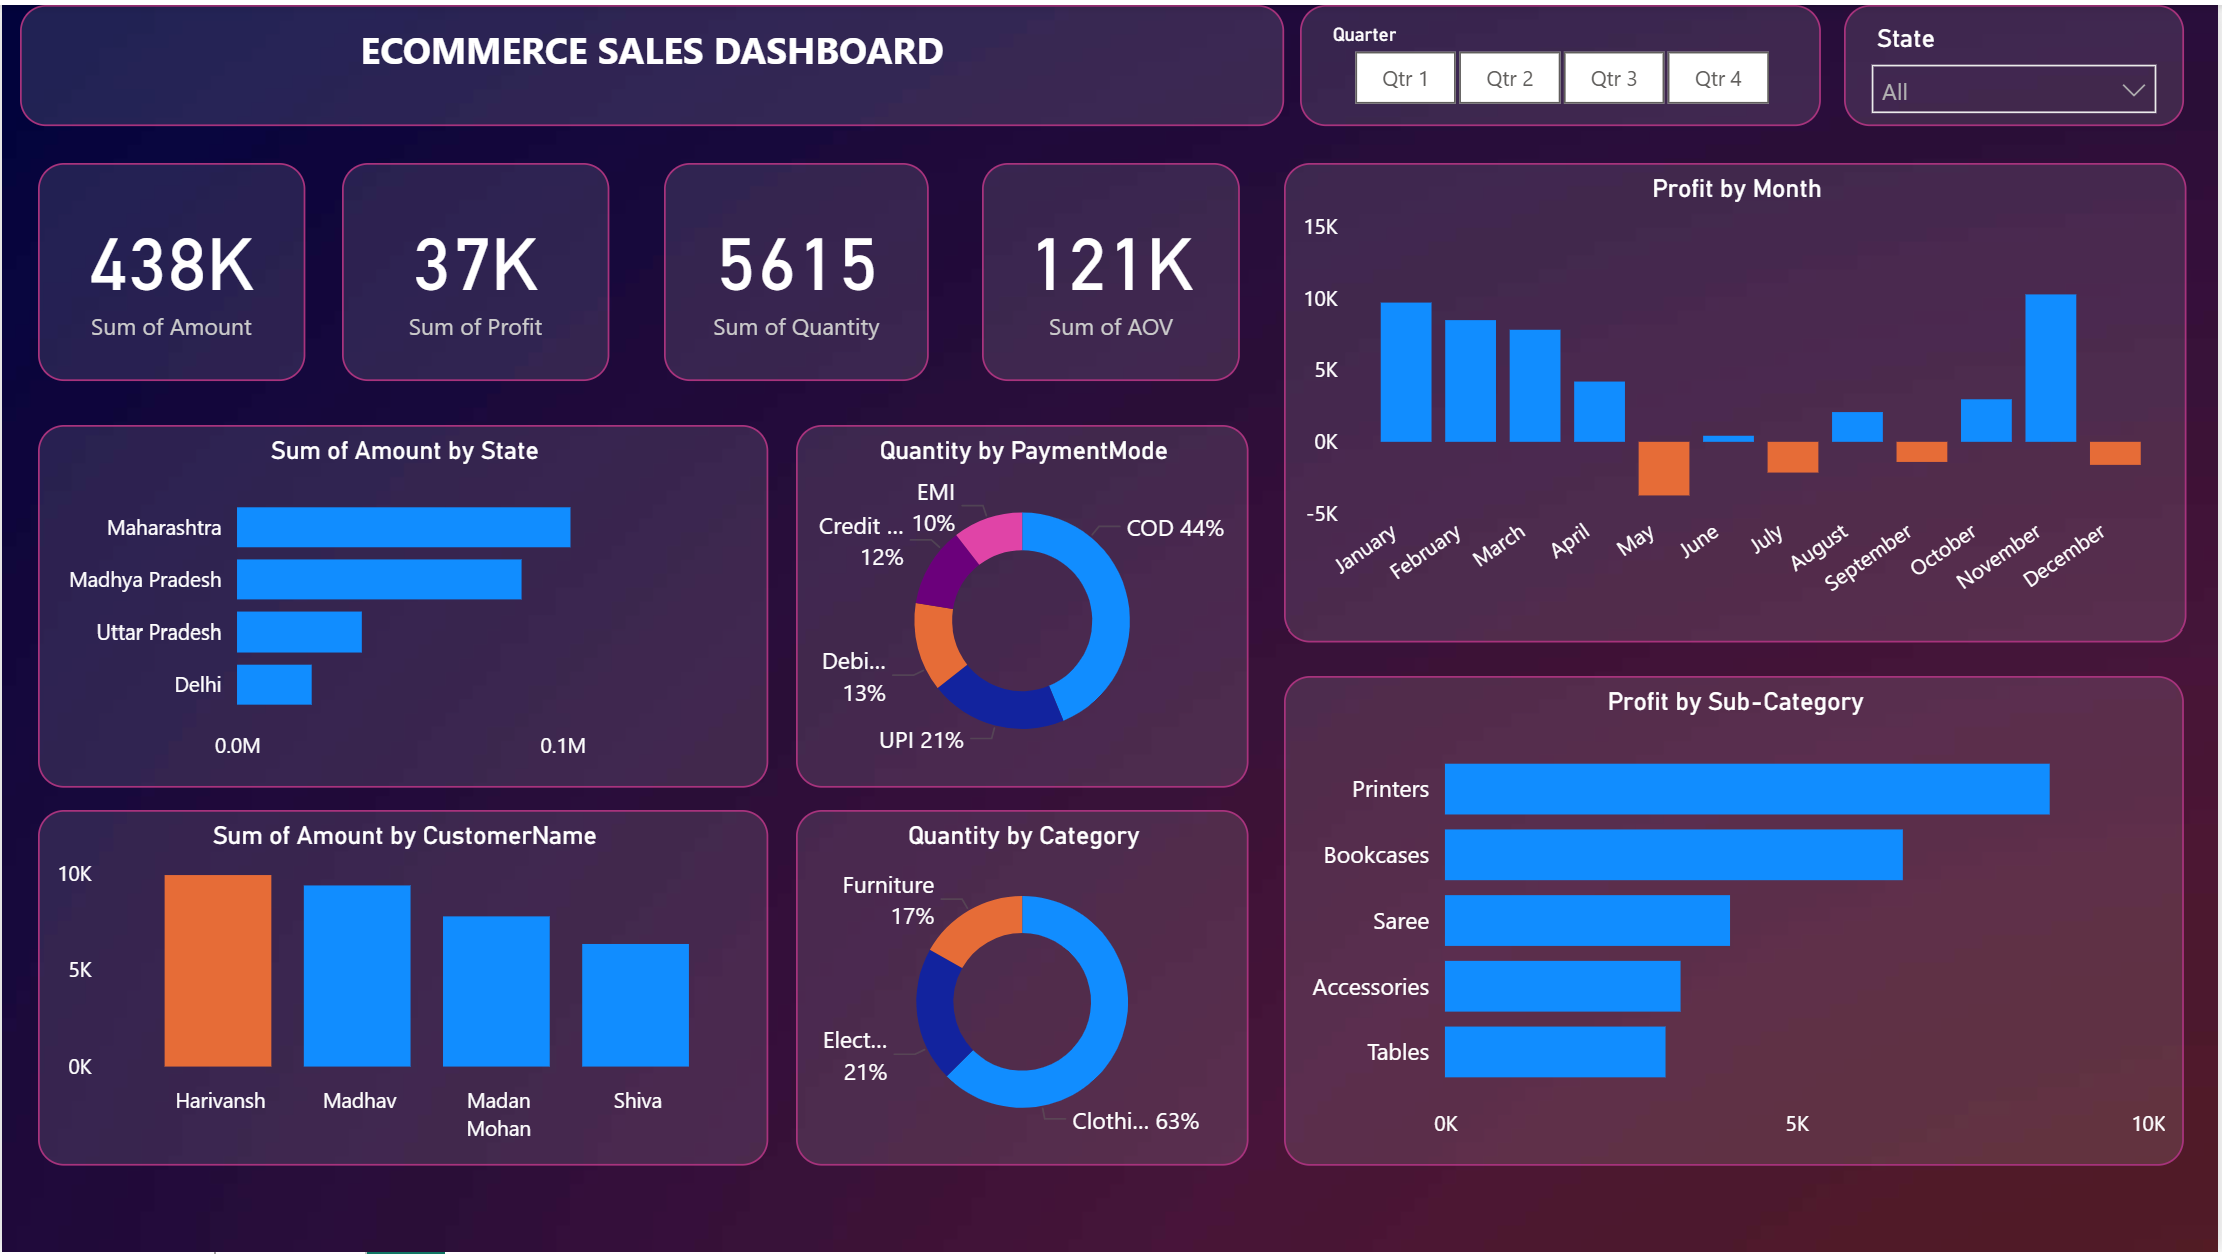

Layout of this report page (visuals, bound fields, positions):
{"tool":"powerbi","page":{"name":"Page 1","canvas":[1280,720],"ordinal":0},"visuals":[{"type":"textbox","box":[10.2,0,730.5,70.1],"z":0},{"type":"columnChart","title":"Profit by Month","fields":{"Category":["Orders.Order Date.Variation.Date Hierarchy.Month"],"Y":["Details.Profit"]},"box":[740.7,91.8,521.4,276.7],"z":1000},{"type":"barChart","title":"Profit by Sub-Category","fields":{"Category":["Details.Sub-Category"],"Y":["Details.Profit"]},"box":[740.8,387.2,520.1,283.1],"z":2000},{"type":"donutChart","title":"Quantity by Category","fields":{"Category":["Details.Category"],"Y":["Details.Quantity"]},"box":[459,464.1,261.4,205.3],"z":3000},{"type":"donutChart","title":"Quantity by PaymentMode","fields":{"Y":["Details.Quantity"],"Category":["Details.PaymentMode"]},"box":[459,242.2,261.4,209.1],"z":4000},{"type":"card","fields":{"Values":["Details.Amount"]},"box":[20.4,91.8,154.3,126.2],"z":5000},{"type":"card","fields":{"Values":["Details.Quantity"]},"box":[382.5,91.8,153,126.2],"z":6000},{"type":"card","fields":{"Values":["Details.Profit"]},"box":[196.3,91.8,154.3,126.2],"z":7000},{"type":"card","fields":{"Values":["Details.AOV"]},"box":[566.1,91.8,149.2,126.2],"z":8000},{"type":"barChart","title":"Sum of Amount by State","fields":{"Category":["Orders.State"],"Y":["Details.Amount"]},"box":[20.4,242.2,422,209.1],"z":9000},{"type":"columnChart","fields":{"Category":["Orders.CustomerName"],"Y":["Details.Amount"]},"box":[20.4,464.1,422,205.3],"z":10000},{"type":"slicer","fields":{"Values":["Orders.Order Date.Variation.Date Hierarchy.Quarter"]},"box":[749.6,0,300.9,70.1],"z":11000},{"type":"slicer","fields":{"Values":["Orders.State"]},"box":[1064.5,0,196.3,70.1],"z":12000}]}

Visuals, with their boxes in screenshot pixels (x1, y1, x2, y2), scaled from the page's 1280x720 canvas onto the 2222x1254 screenshot:
textbox: BBox(18, 0, 1286, 122)
"Profit by Month" columnChart: BBox(1286, 160, 2191, 642)
"Profit by Sub-Category" barChart: BBox(1286, 674, 2189, 1167)
"Quantity by Category" donutChart: BBox(797, 808, 1251, 1166)
"Quantity by PaymentMode" donutChart: BBox(797, 422, 1251, 786)
card - Details.Amount: BBox(35, 160, 303, 380)
card - Details.Quantity: BBox(664, 160, 930, 380)
card - Details.Profit: BBox(341, 160, 609, 380)
card - Details.AOV: BBox(983, 160, 1242, 380)
"Sum of Amount by State" barChart: BBox(35, 422, 768, 786)
columnChart - Orders.CustomerName x Details.Amount: BBox(35, 808, 768, 1166)
slicer - Orders.Order Date.Variation.Date Hierarchy.Quarter: BBox(1301, 0, 1824, 122)
slicer - Orders.State: BBox(1848, 0, 2189, 122)
